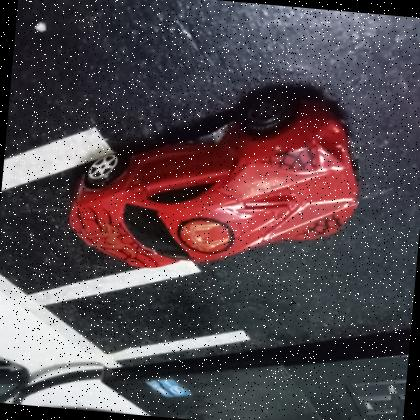Car: (61, 71, 370, 289)
